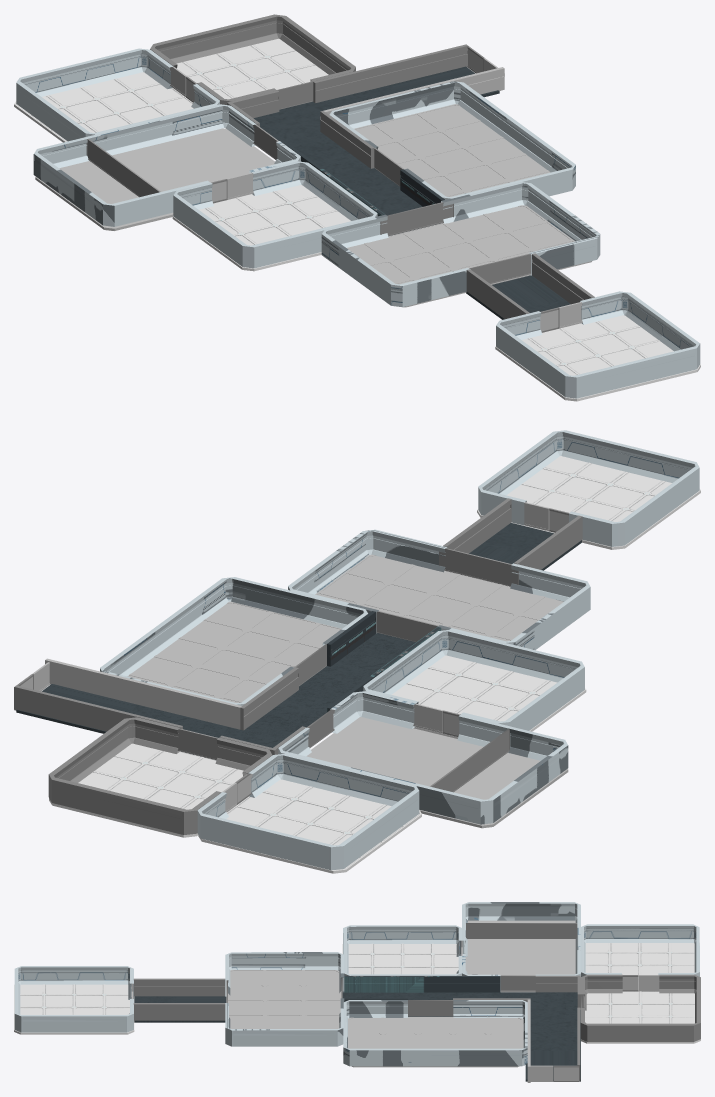
File: Labor_Part.FBX
3 views of the same model, one above another, from view 1: azimuth 30°, elevation 25°; view 2: azimuth 150°, elevation 25°; view 3: azimuth 270°, elevation 25° (orthographic). The views are drawn at different scales.
Visible parts, largest first — view 1: Labor_008, Labor_Boden_011, Labor_Boden_012, Labor_009, Labor_006, Labor_Boden_006, Labor_005, Labor_007, Flur_Boden_005, Labor_004, Labor_Boden_009, Labor_Boden_007 (+15 smaller); view 2: Labor_Boden_011, Labor_Boden_012, Labor_004, Labor_006, Labor_009, Labor_Boden_006, Labor_Wand_004, Flur_Boden_005, Labor_008, Labor_005, Labor_007, Labor_Boden_005 (+15 smaller); view 3: Labor_Boden_012, Labor_007, Labor_Boden_011, Flur_Boden_005, Labor_008, Labor_006, Labor_Boden_006, Labor_Wand_004, Labor_Boden_009, Labor_Boden_004, Labor_Boden_007, Labor_Boden_005 (+15 smaller).
Part boxes in pixels (x1=…): Labor_008: x1=321, y1=182, x2=600, y2=307; Labor_Boden_011: x1=354, y1=104, x2=550, y2=196; Labor_Boden_012: x1=347, y1=205, x2=591, y2=307; Labor_009: x1=33, y1=104, x2=300, y2=226; Labor_006: x1=496, y1=291, x2=700, y2=398; Labor_Boden_006: x1=35, y1=128, x2=274, y2=230; Labor_005: x1=173, y1=161, x2=377, y2=268; Labor_007: x1=329, y1=81, x2=575, y2=199; Flur_Boden_005: x1=253, y1=66, x2=499, y2=236; Labor_004: x1=16, y1=48, x2=219, y2=141; Labor_Boden_009: x1=495, y1=315, x2=700, y2=401; Labor_Boden_007: x1=172, y1=185, x2=350, y2=271; Labor_Boden_011: x1=127, y1=601, x2=341, y2=702; Labor_Boden_012: x1=315, y1=554, x2=563, y2=641; Labor_004: x1=197, y1=753, x2=419, y2=870; Labor_006: x1=478, y1=430, x2=699, y2=546; Labor_009: x1=278, y1=691, x2=568, y2=824; Labor_Boden_006: x1=306, y1=717, x2=568, y2=828; Labor_Wand_004: x1=48, y1=717, x2=272, y2=834; Flur_Boden_005: x1=16, y1=633, x2=415, y2=754; Labor_008: x1=288, y1=529, x2=590, y2=650; Labor_005: x1=363, y1=630, x2=584, y2=730; Labor_007: x1=100, y1=577, x2=367, y2=705; Labor_Boden_005: x1=198, y1=779, x2=421, y2=873; Labor_Boden_012: x1=226, y1=970, x2=341, y2=1028; Labor_007: x1=343, y1=1000, x2=527, y2=1066; Labor_Boden_011: x1=348, y1=1016, x2=523, y2=1067; Flur_Boden_005: x1=342, y1=992, x2=580, y2=1081; Labor_008: x1=225, y1=952, x2=344, y2=1046; Labor_006: x1=14, y1=966, x2=133, y2=1032; Labor_Boden_006: x1=465, y1=920, x2=575, y2=992; Labor_Wand_004: x1=580, y1=974, x2=700, y2=1041; Labor_Boden_009: x1=14, y1=984, x2=134, y2=1034; Labor_Boden_004: x1=581, y1=991, x2=700, y2=1043; Labor_Boden_007: x1=342, y1=943, x2=458, y2=974; Labor_Boden_005: x1=585, y1=943, x2=699, y2=990.
Bounding box in the file's own units: 64.79 × 3.61 × 114.
